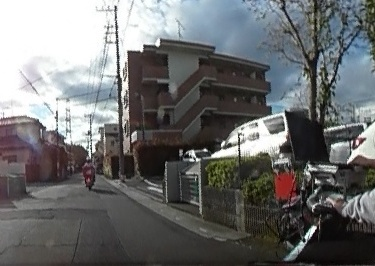person: (84, 155, 92, 179)
